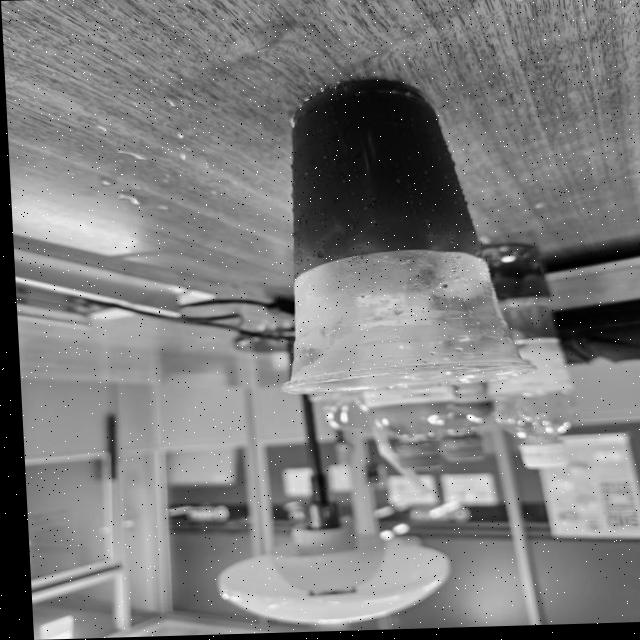cup: (243, 75, 539, 396)
